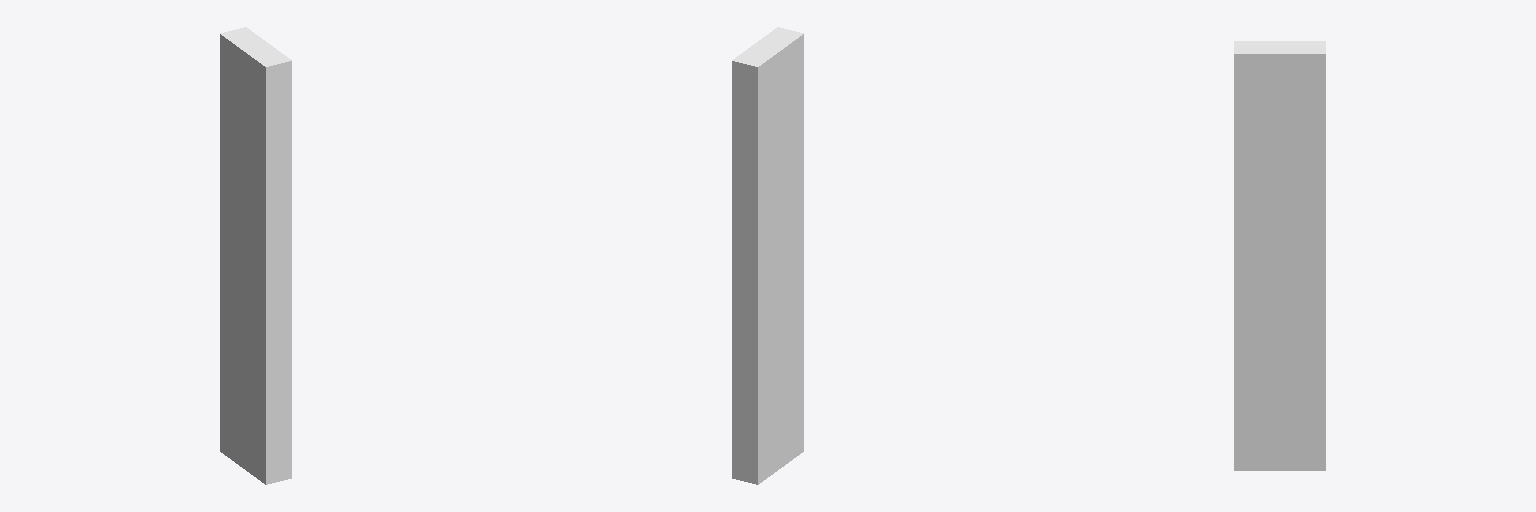
Rendered from SH_Enviorment-25-Large_BoardA.obj.
3 renders of one model, left to right at view 1: azimuth 30°, elevation 25°; view 2: azimuth 150°, elevation 25°; view 3: azimuth 270°, elevation 25°, orthographic.
Visible parts, largest first — view 1: Large_BoardA; view 2: Large_BoardA; view 3: Large_BoardA.
Part boxes in pixels (left/top/right/bottom): Large_BoardA: left=220, top=27, right=291, bottom=484; Large_BoardA: left=732, top=27, right=803, bottom=484; Large_BoardA: left=1234, top=41, right=1325, bottom=470.
Size of the model in its own units: 0.1 by 1.5 by 0.3.